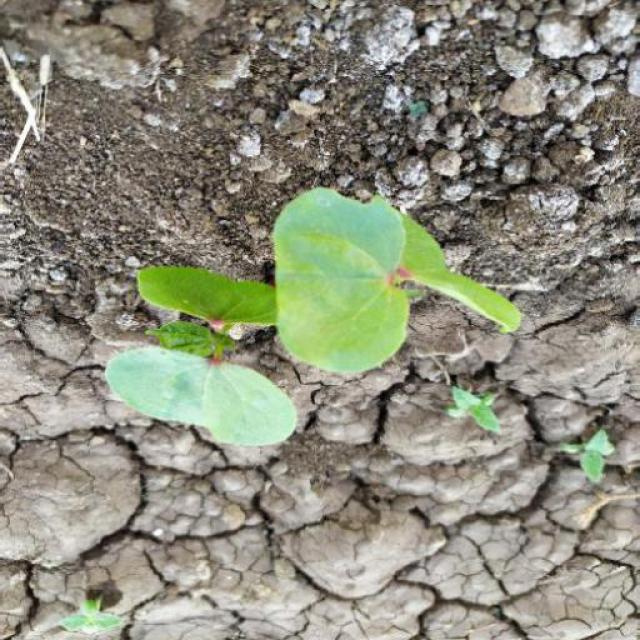crop: (104, 179, 524, 471)
